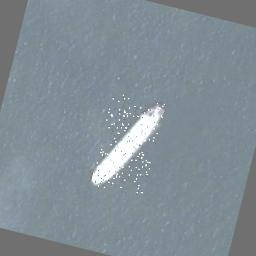boat: (90, 92, 166, 198)
